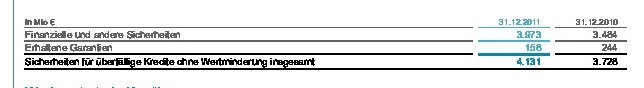table: (0, 0, 644, 88)
